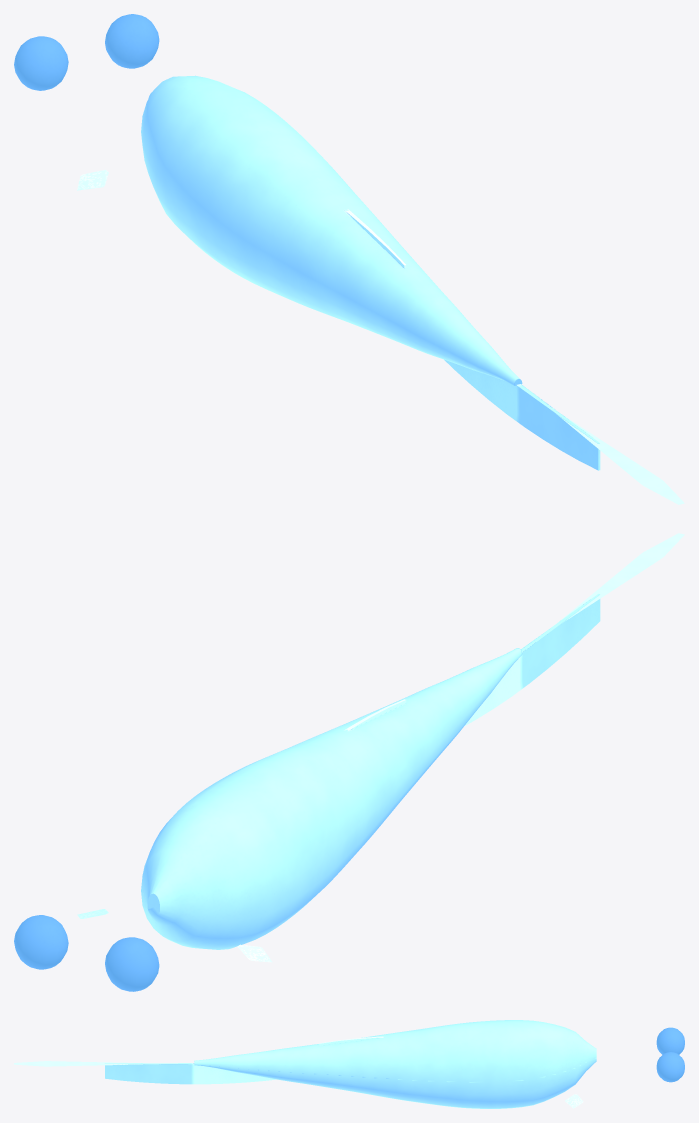
File: coryphaenoides_armatus.glb
The picture shows the model from 3 angles, top to bottom: view 1: azimuth 30°, elevation 25°; view 2: azimuth 150°, elevation 25°; view 3: azimuth 270°, elevation 25°; orthographic projection. The views are drawn at different scales.
Visible parts, largest first — view 1: coryphaenoides_armatus; view 2: coryphaenoides_armatus; view 3: coryphaenoides_armatus.
Boxes of the visible parts, x1,y1,x2,y2 form: coryphaenoides_armatus: (14,14,684,504); coryphaenoides_armatus: (14,533,684,991); coryphaenoides_armatus: (14,1020,684,1108).
Size of the model in its own units: 0.31 by 0.2259 by 1.67.
Materials: 2 (2 with a texture image).
